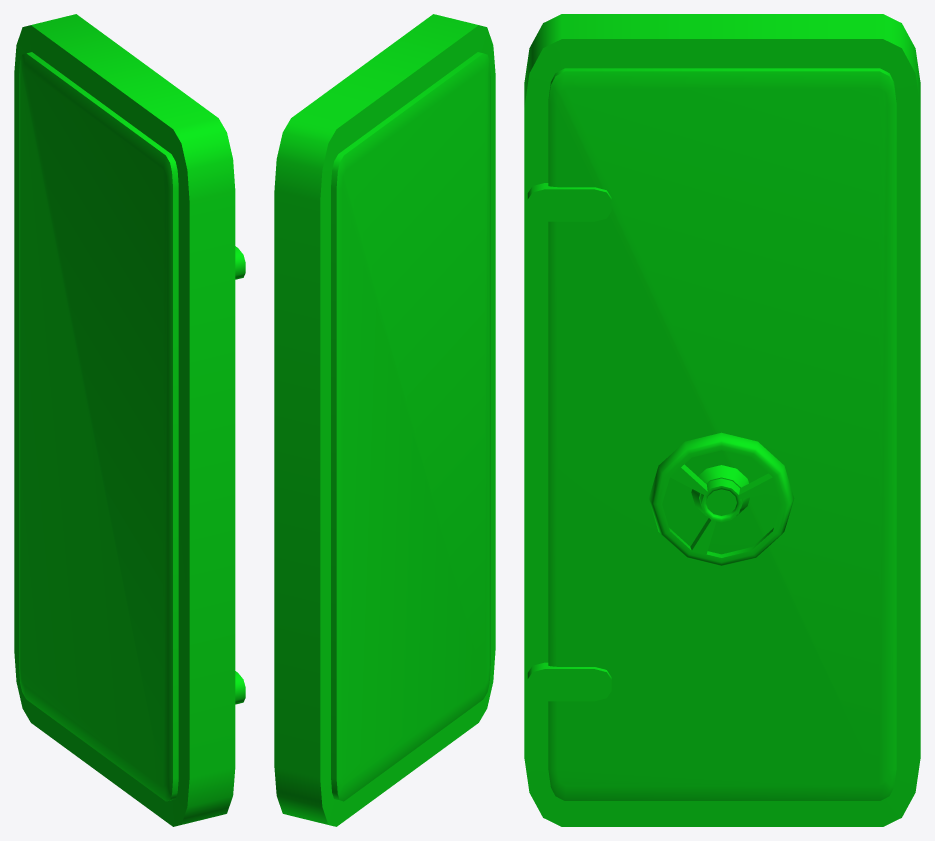
The model's file is SealedDoor.fbx.
3 renders of one model, left to right at view 1: azimuth 30°, elevation 25°; view 2: azimuth 150°, elevation 25°; view 3: azimuth 270°, elevation 25°, orthographic. The views are drawn at different scales.
Parts seen in each view (by area): view 1: SealedDoor; view 2: SealedDoor; view 3: SealedDoor.
Part boxes in pixels (left/top/right/bottom): SealedDoor: left=14, top=14, right=245, bottom=826; SealedDoor: left=274, top=14, right=495, bottom=826; SealedDoor: left=524, top=14, right=920, bottom=826.
Size of the model in its own units: 192 by 1544 by 704.
